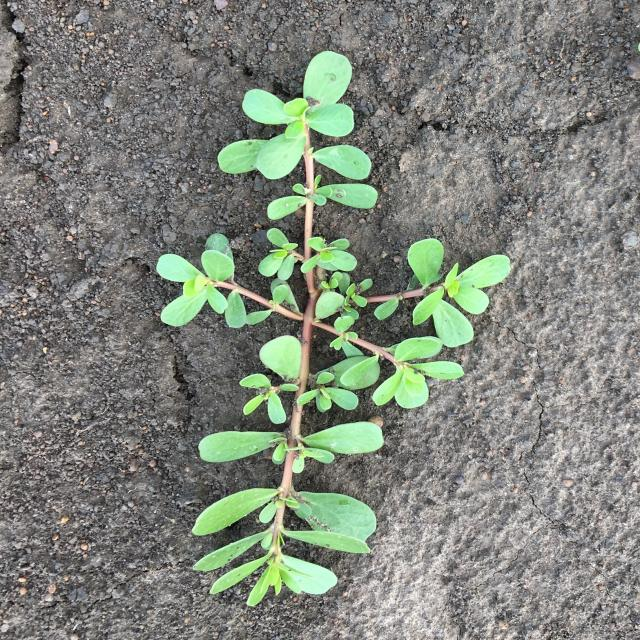Purslane: (156, 51, 511, 607)
